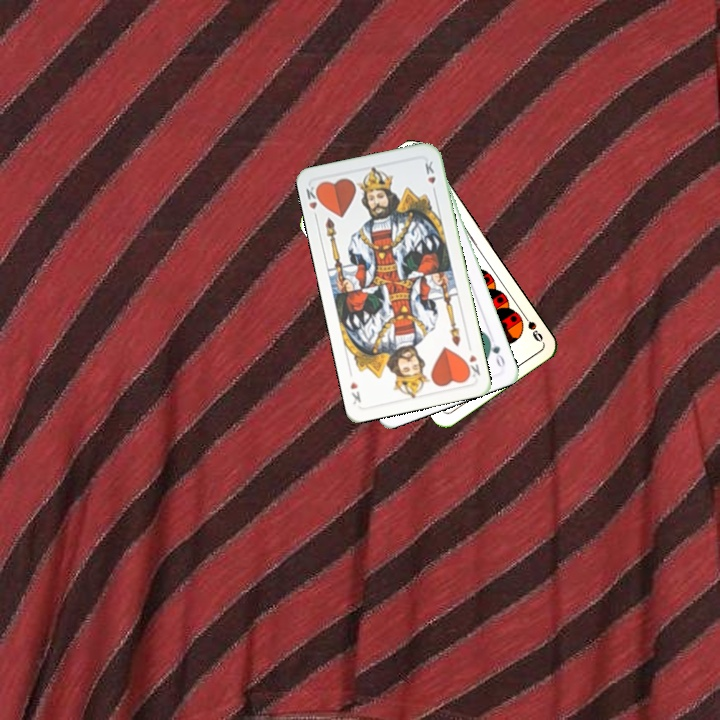GO: (483, 332, 508, 371)
HK: (302, 182, 324, 222), (461, 350, 483, 381)
S9: (518, 308, 546, 345)
